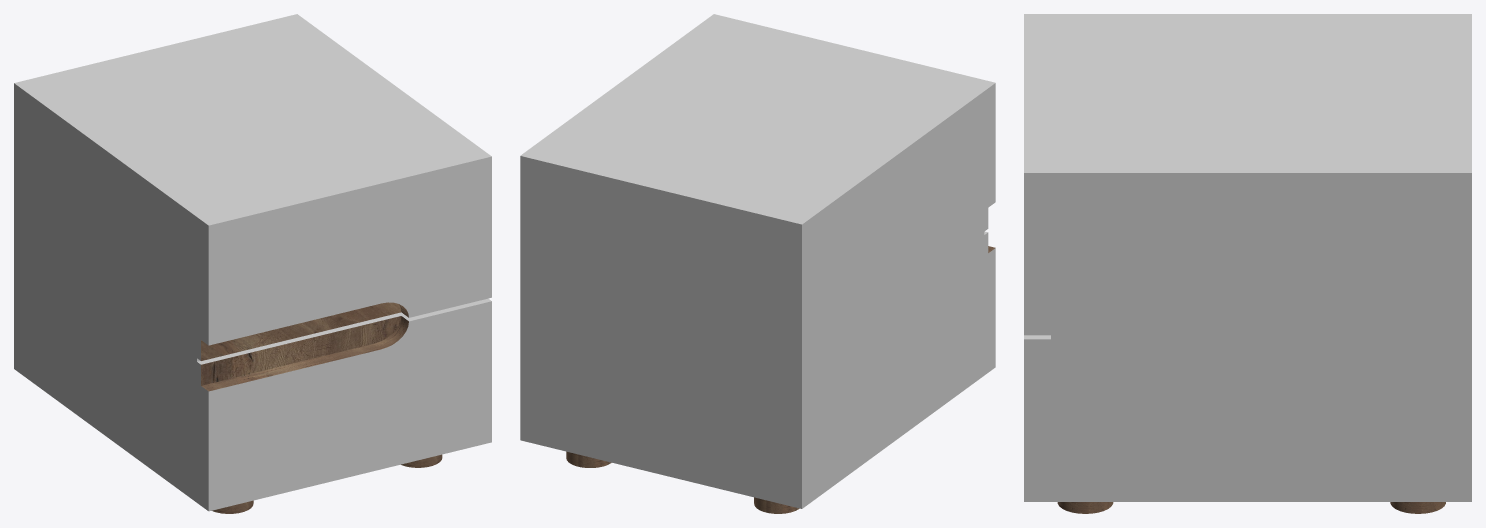
File: bedside.gltf
3 renders of one model, left to right at view 1: azimuth 30°, elevation 25°; view 2: azimuth 150°, elevation 25°; view 3: azimuth 270°, elevation 25°, orthographic. The views are drawn at different scales.
Visible parts, largest first — view 1: Box001, Box002, Box003; view 2: Box001, Box003, Box002; view 3: Box001, Box003, Box002, Cylinder004, Cylinder003.
Boxes of the visible parts, x1=… form: Box001: x1=14, y1=14, x2=479, y2=502; Box002: x1=197, y1=298, x2=491, y2=511; Box003: x1=197, y1=148, x2=491, y2=360; Box001: x1=520, y1=22, x2=984, y2=508; Box003: x1=702, y1=14, x2=995, y2=231; Box002: x1=984, y1=231, x2=995, y2=375; Box001: x1=1051, y1=14, x2=1471, y2=501; Box003: x1=1024, y1=14, x2=1050, y2=335; Box002: x1=1024, y1=335, x2=1050, y2=501; Cylinder004: x1=1057, y1=502, x2=1113, y2=513; Cylinder003: x1=1390, y1=502, x2=1445, y2=513.
Size of the model in its own units: 0.42 by 0.438 by 0.5.
Materials: 2 (1 with a texture image).
